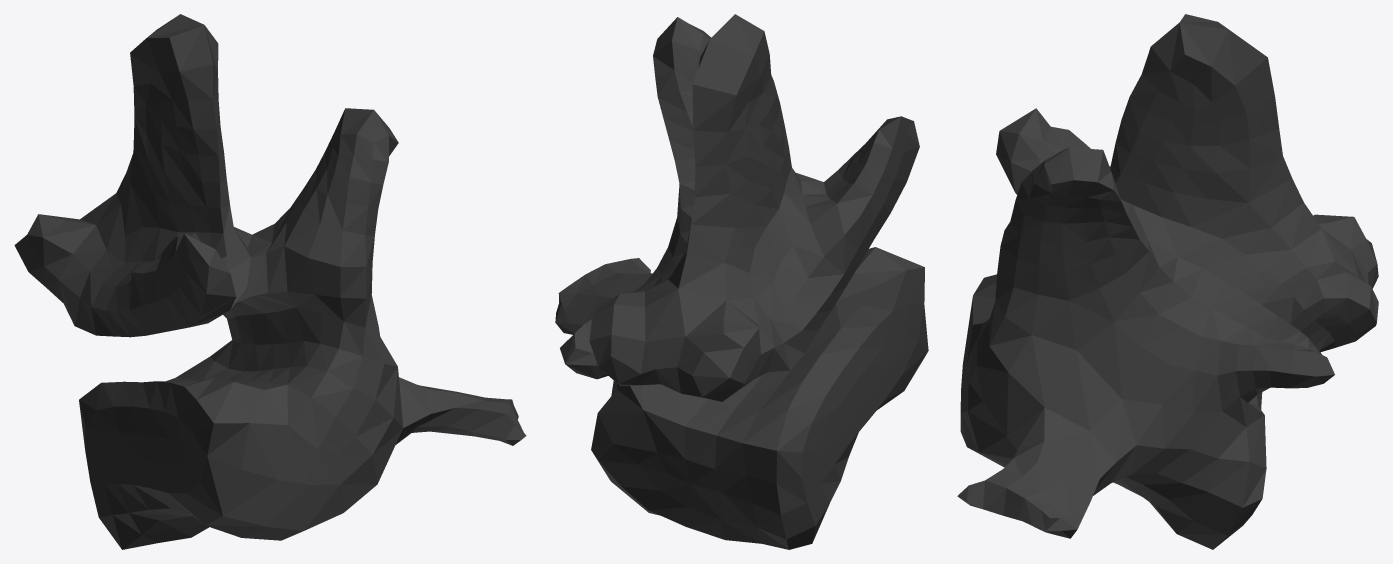
3 views of the same model, side by side, from view 1: azimuth 30°, elevation 25°; view 2: azimuth 150°, elevation 25°; view 3: azimuth 270°, elevation 25° (orthographic).
Parts seen in each view (by area): view 1: L1; view 2: L1; view 3: L1.
Boxes of the visible parts, left/top/right/bottom form: L1: left=14, top=14, right=526, bottom=549; L1: left=555, top=14, right=928, bottom=549; L1: left=957, top=14, right=1378, bottom=549.
Size of the model in its own units: 0.00952 by 0.0139 by 0.0105.
1 material, 1 textured.
